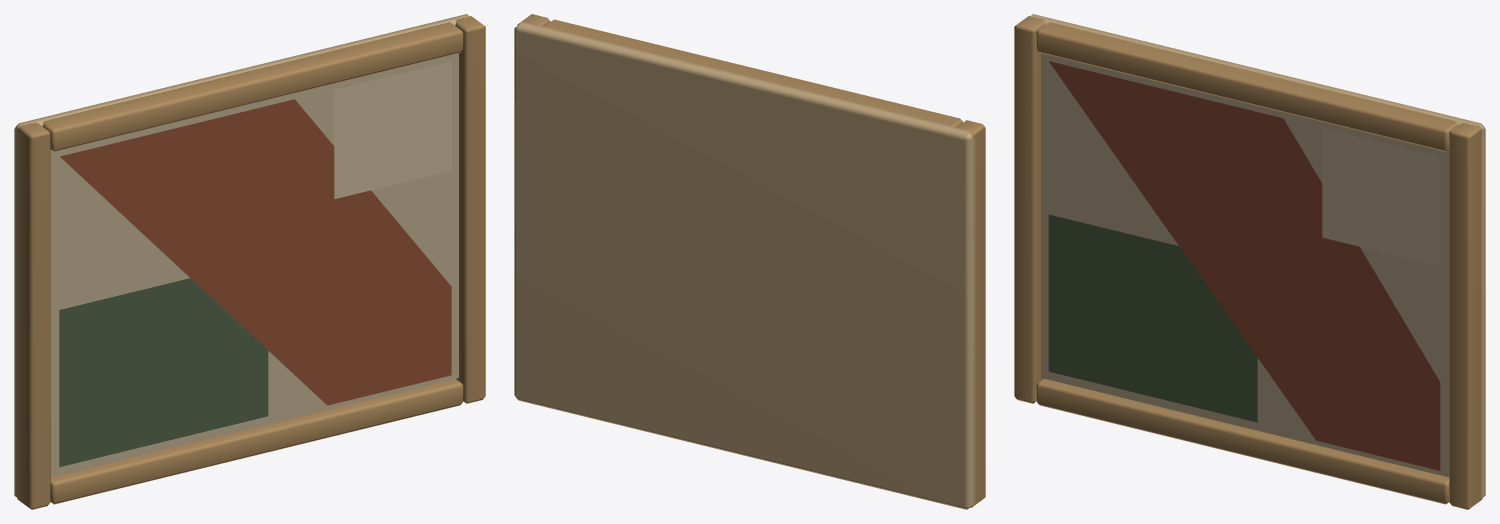
File: abstract_frame_06.glb
3 views of the same model, side by side, from view 1: azimuth 30°, elevation 25°; view 2: azimuth 150°, elevation 25°; view 3: azimuth 330°, elevation 25° (orthographic).
Visible parts, largest first — view 1: Body; view 2: Body; view 3: Body.
Boxes of the visible parts, bbox=[...] form: Body: bbox=[14, 14, 485, 509]; Body: bbox=[514, 14, 985, 509]; Body: bbox=[1014, 14, 1485, 509].
Size of the model in its own units: 0.7 by 0.55 by 0.05.
